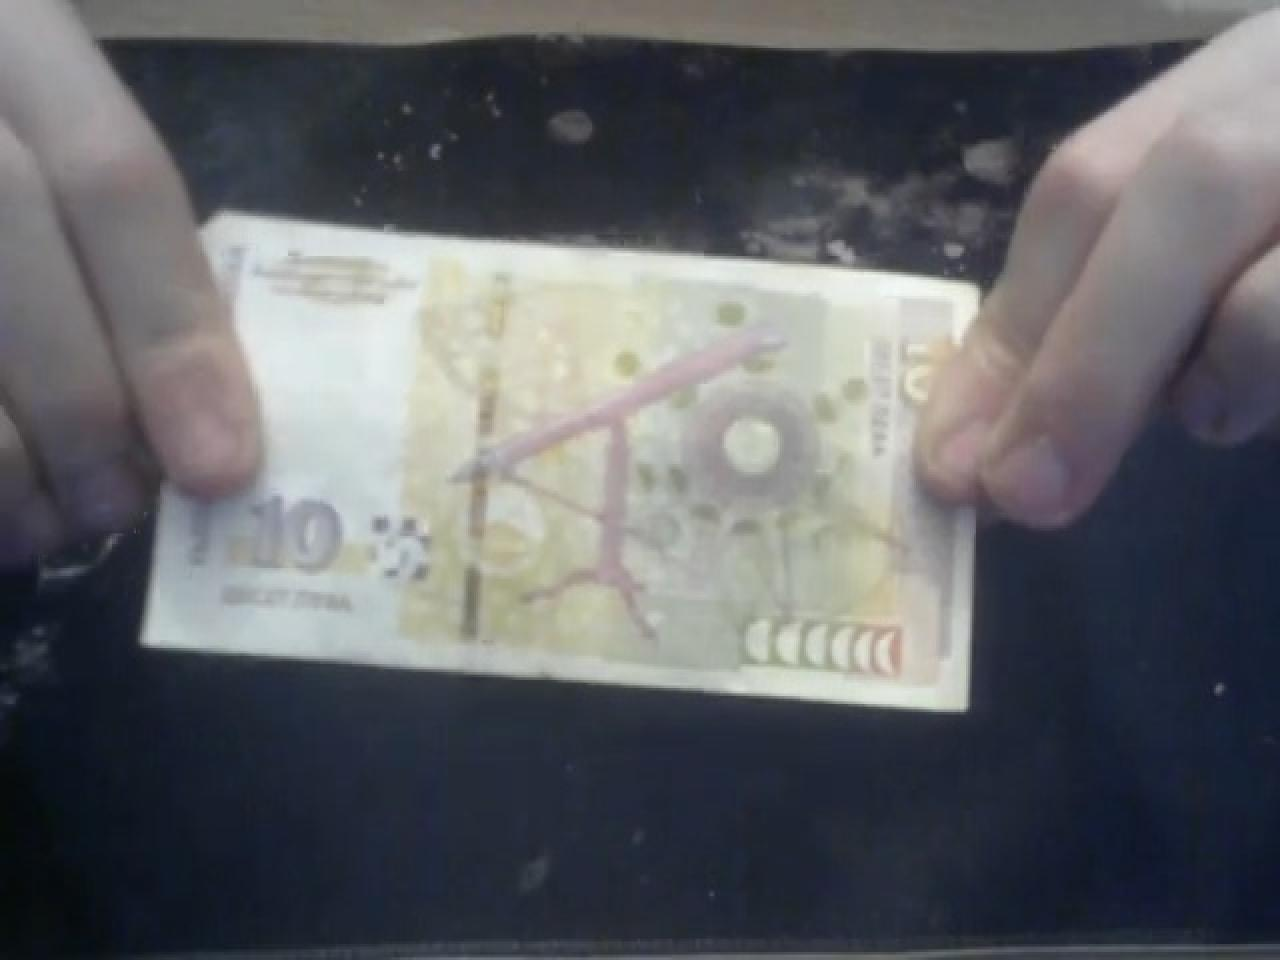10leva: (140, 216, 980, 717)
